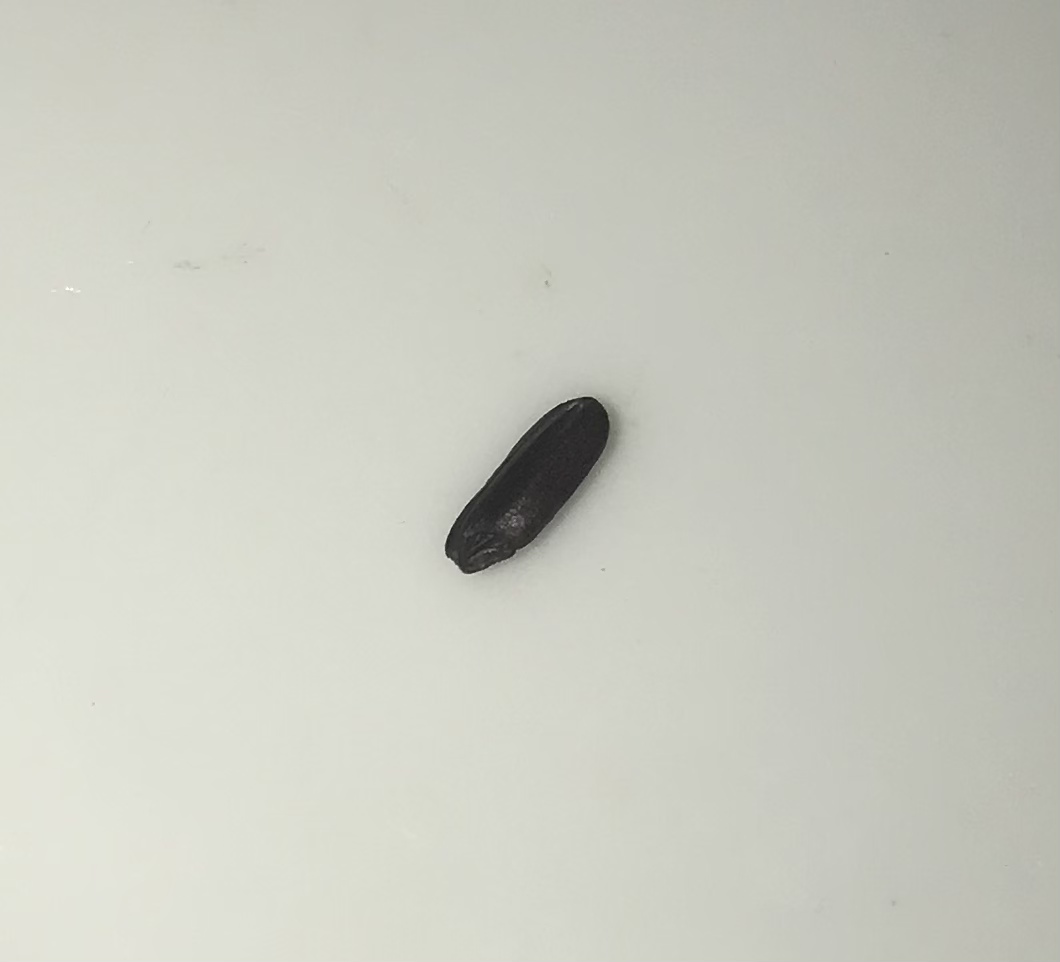Gao Nep Cam: (441, 392, 614, 590)
